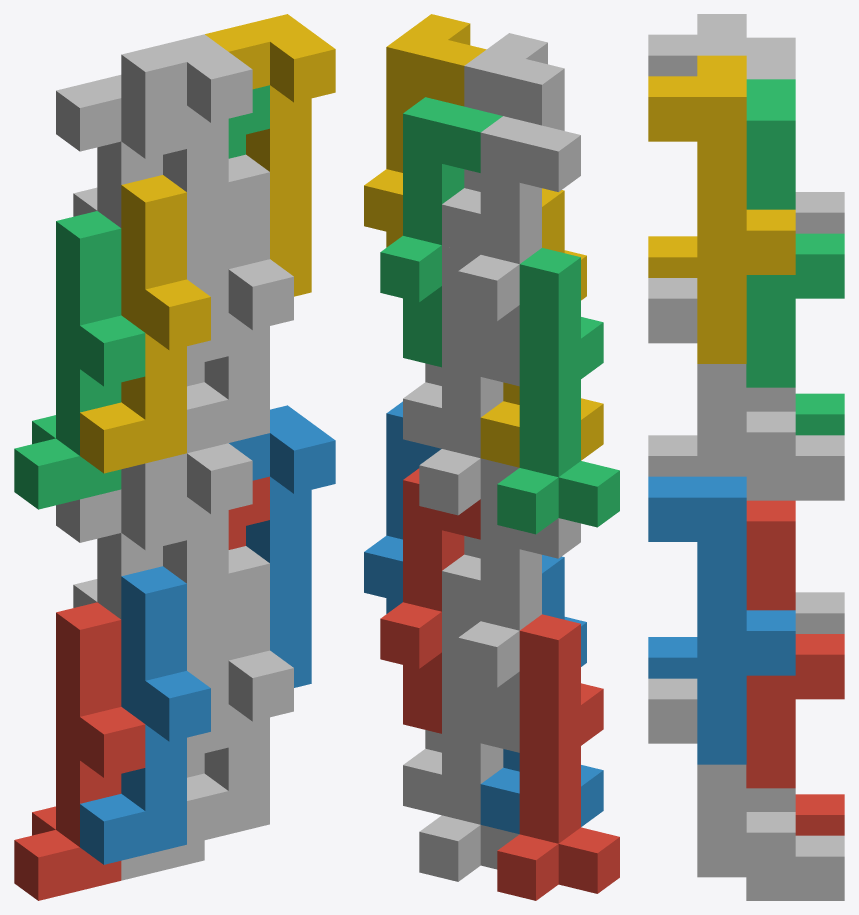
File: tiling.obj
3 views of the same model, side by side, from view 1: azimuth 30°, elevation 25°; view 2: azimuth 150°, elevation 25°; view 3: azimuth 270°, elevation 25° (orthographic). The views are drawn at different scales.
Visible parts, largest first — view 1: copy_1_domain_2, copy_1_domain_4, copy_1_domain_1, copy_1_domain_3, copy_2_domain_4, copy_1_domain_6, copy_1_domain_8, copy_2_domain_8, copy_2_domain_2, copy_2_domain_6, copy_2_domain_3, copy_2_domain_1 (+4 smaller); view 2: copy_1_domain_1, copy_1_domain_3, copy_2_domain_3, copy_2_domain_7, copy_2_domain_1, copy_2_domain_5, copy_1_domain_7, copy_1_domain_5, copy_2_domain_8, copy_2_domain_4, copy_1_domain_4, copy_1_domain_2 (+4 smaller); view 3: copy_2_domain_8, copy_2_domain_6, copy_2_domain_7, copy_2_domain_5, copy_1_domain_6, copy_1_domain_8, copy_1_domain_7, copy_1_domain_5, copy_2_domain_3, copy_2_domain_4, copy_1_domain_3, copy_1_domain_1 (+4 smaller).
Boxes of the visible parts, <box> form: copy_1_domain_2: <box>80,566,210,864</box>; copy_1_domain_4: <box>80,175,210,473</box>; copy_1_domain_1: <box>14,602,145,900</box>; copy_1_domain_3: <box>14,211,145,509</box>; copy_2_domain_4: <box>121,34,252,316</box>; copy_1_domain_6: <box>187,546,293,844</box>; copy_1_domain_8: <box>187,154,293,453</box>; copy_2_domain_8: <box>205,14,335,296</box>; copy_2_domain_2: <box>121,443,252,708</box>; copy_2_domain_6: <box>229,405,335,687</box>; copy_2_domain_3: <box>56,75,186,227</box>; copy_2_domain_1: <box>56,489,186,619</box>; copy_1_domain_1: <box>497,614,619,900</box>; copy_1_domain_3: <box>497,248,619,534</box>; copy_2_domain_3: <box>458,109,580,386</box>; copy_2_domain_7: <box>380,97,502,367</box>; copy_2_domain_1: <box>458,499,580,752</box>; copy_2_domain_5: <box>380,468,480,733</box>; copy_1_domain_7: <box>419,245,519,515</box>; copy_1_domain_5: <box>419,612,518,881</box>; copy_2_domain_8: <box>364,14,486,247</box>; copy_2_domain_4: <box>442,33,564,254</box>; copy_1_domain_4: <box>480,188,603,467</box>; copy_1_domain_2: <box>480,555,603,834</box>; copy_2_domain_8: <box>648,55,795,363</box>; copy_2_domain_6: <box>648,476,795,764</box>; copy_2_domain_7: <box>746,79,844,387</box>; copy_2_domain_5: <box>746,500,844,788</box>; copy_1_domain_6: <box>648,678,795,877</box>; copy_1_domain_8: <box>648,278,795,476</box>; copy_1_domain_7: <box>746,387,844,500</box>; copy_1_domain_5: <box>746,788,844,900</box>; copy_2_domain_3: <box>746,37,844,233</box>; copy_2_domain_4: <box>648,14,746,76</box>; copy_1_domain_3: <box>795,393,844,435</box>; copy_1_domain_1: <box>795,794,844,835</box>.
Size of the model in its own units: 6 by 19 by 4.
